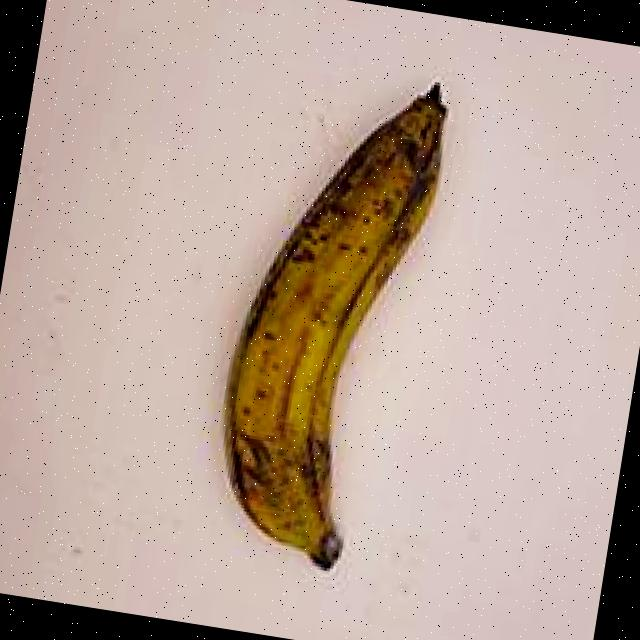Overripe: (145, 0, 517, 612)
